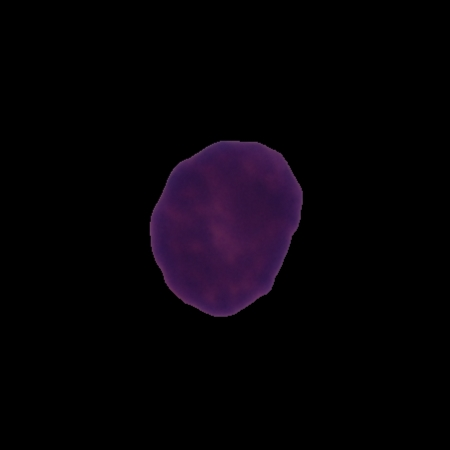HEM: (146, 137, 305, 319)
